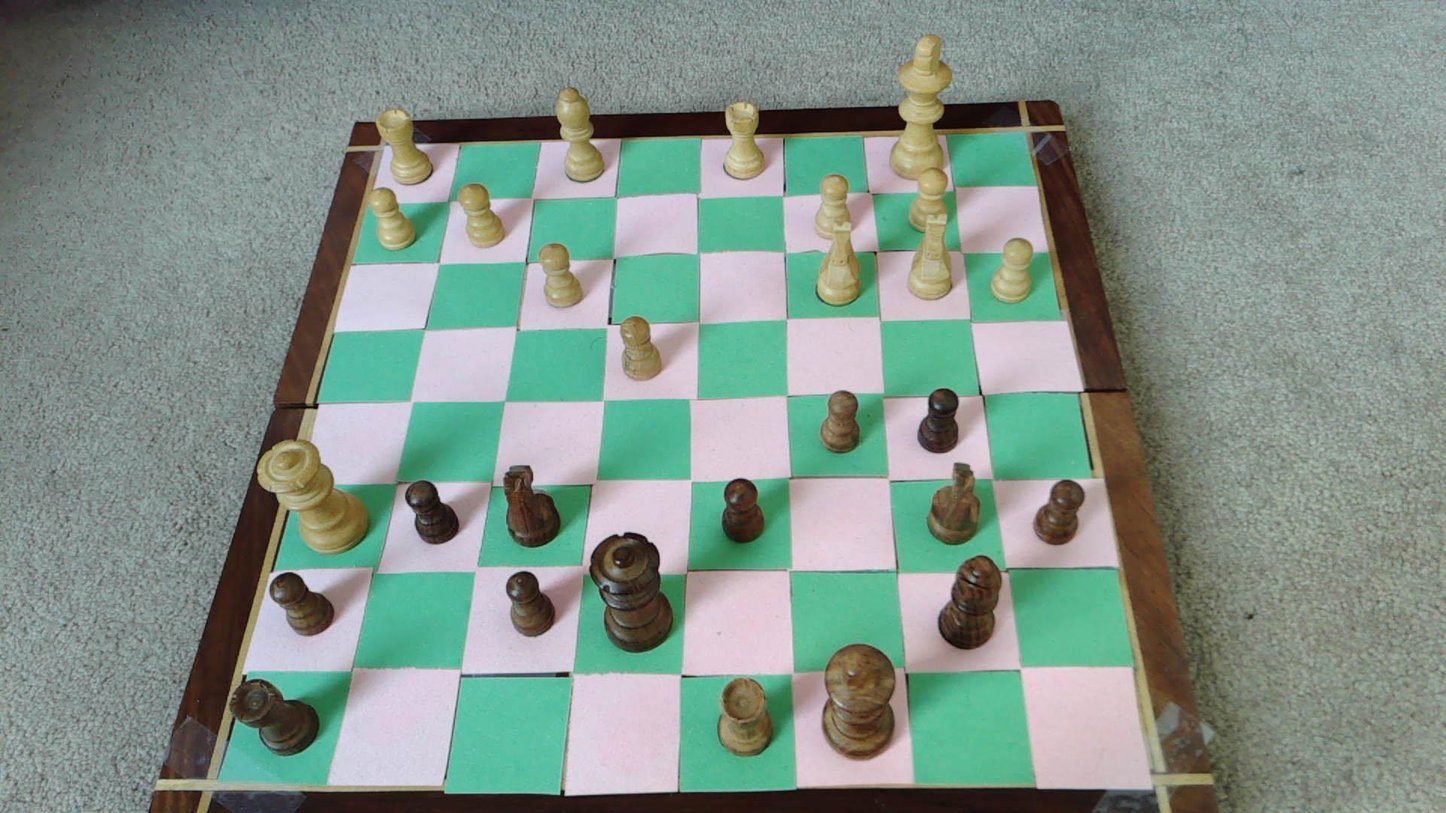dark_piece: (590, 533, 672, 651), (824, 644, 895, 757), (231, 679, 319, 754), (938, 555, 1002, 648), (503, 464, 560, 547), (927, 463, 981, 544), (718, 676, 773, 755), (270, 572, 334, 635), (406, 481, 459, 543), (1033, 480, 1084, 544), (506, 571, 554, 636), (722, 478, 764, 542), (918, 388, 959, 452), (820, 390, 860, 452)
white_piece: (258, 439, 369, 552), (889, 33, 954, 180), (554, 88, 606, 182), (377, 108, 434, 185), (908, 214, 953, 299), (723, 100, 766, 179), (816, 230, 861, 305), (459, 183, 507, 247), (369, 188, 417, 250), (990, 237, 1034, 303), (540, 242, 584, 307), (621, 316, 663, 379), (908, 169, 948, 233), (814, 174, 852, 240)
